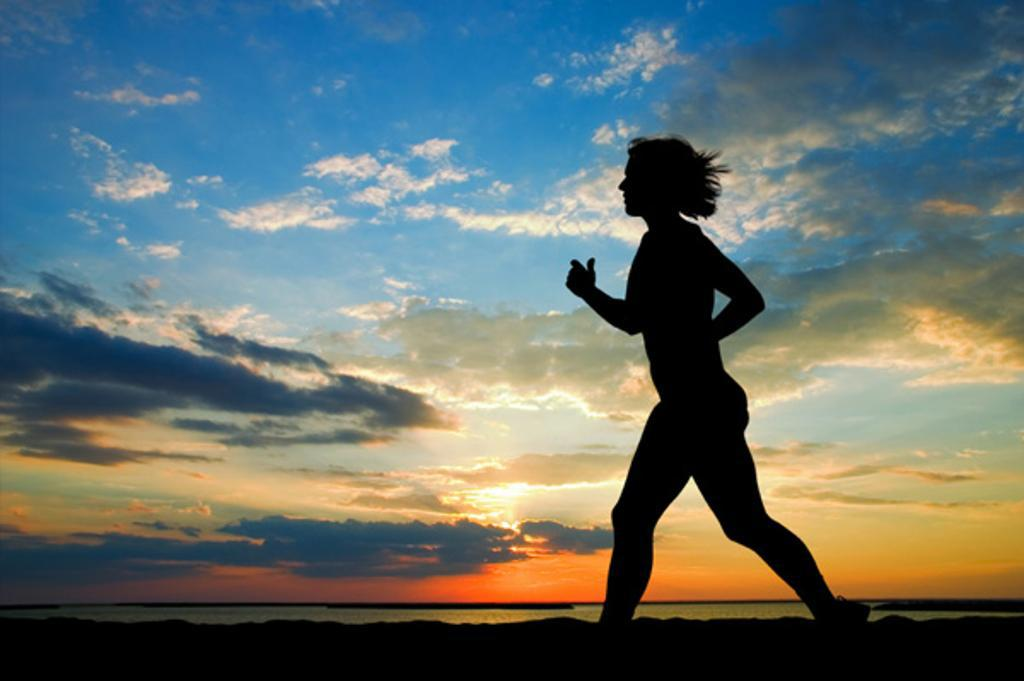face: (618, 150, 662, 219)
